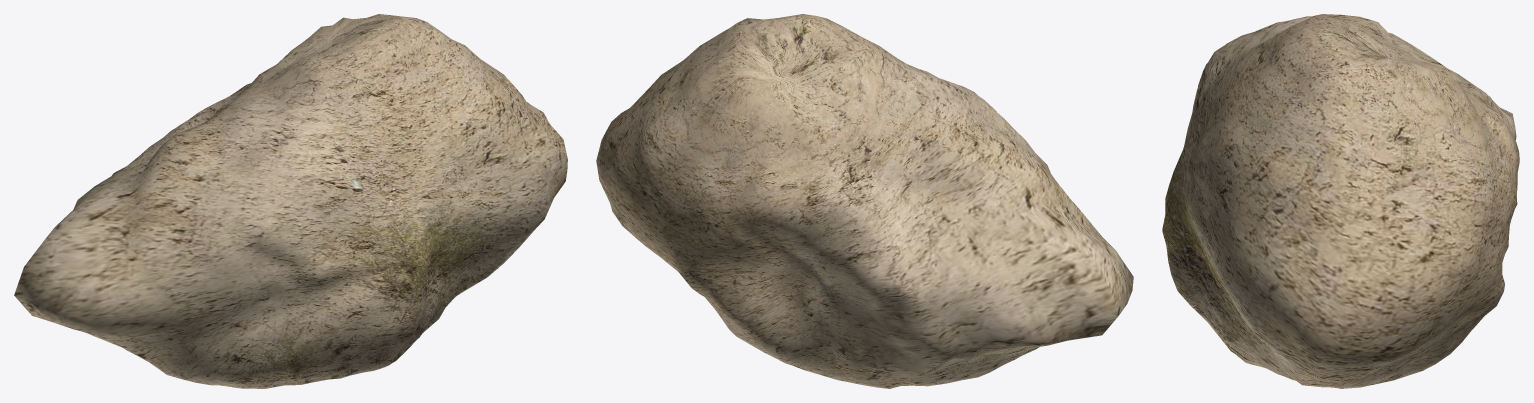
Rendered from amalthea.gltf.
3 views of the same model, side by side, from view 1: azimuth 30°, elevation 25°; view 2: azimuth 150°, elevation 25°; view 3: azimuth 270°, elevation 25° (orthographic). The views are drawn at different scales.
Parts seen in each view (by area): view 1: amalthea.001; view 2: amalthea.001; view 3: amalthea.001.
Boxes of the visible parts, x1,y1,x2,y2 form: amalthea.001: (14, 14, 567, 388); amalthea.001: (596, 14, 1133, 388); amalthea.001: (1162, 14, 1519, 388).
Bounding box in the file's own units: 267 × 157 × 139.
1 material, 1 textured.
